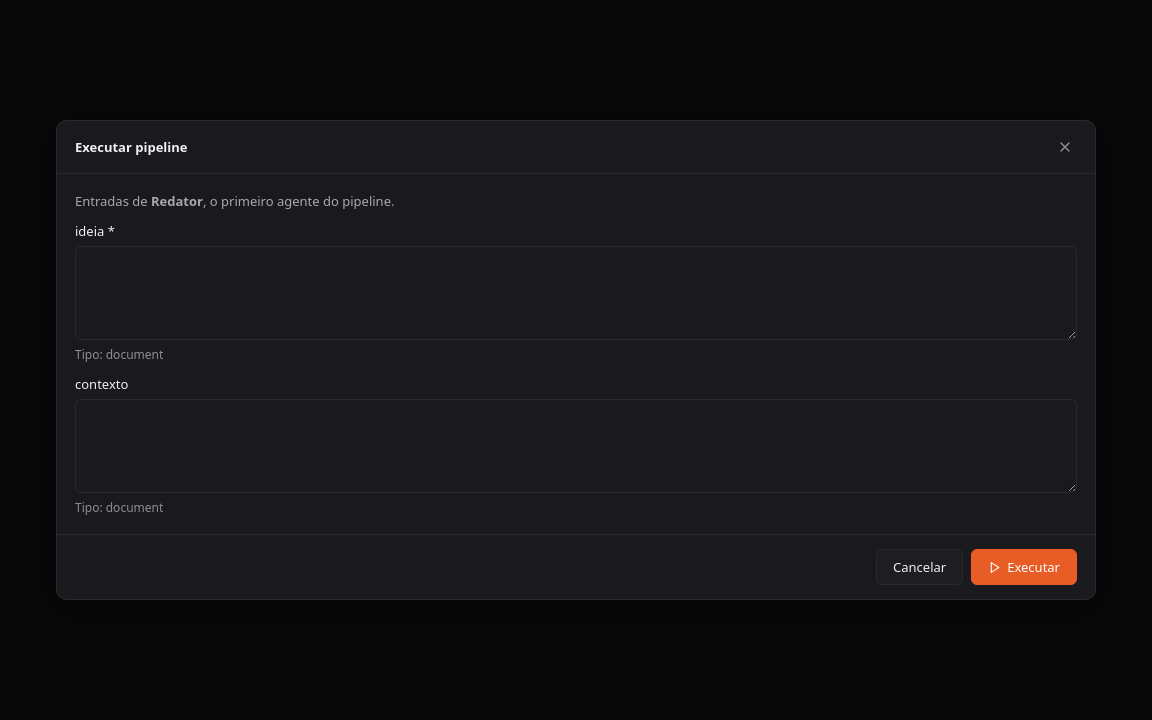
Test: RunInputsModal › blocks submit until required inputs are filled
This screenshot has width=1152, height=720.
Click the button "Executar" at (1024, 567), box [971,549,1077,585]
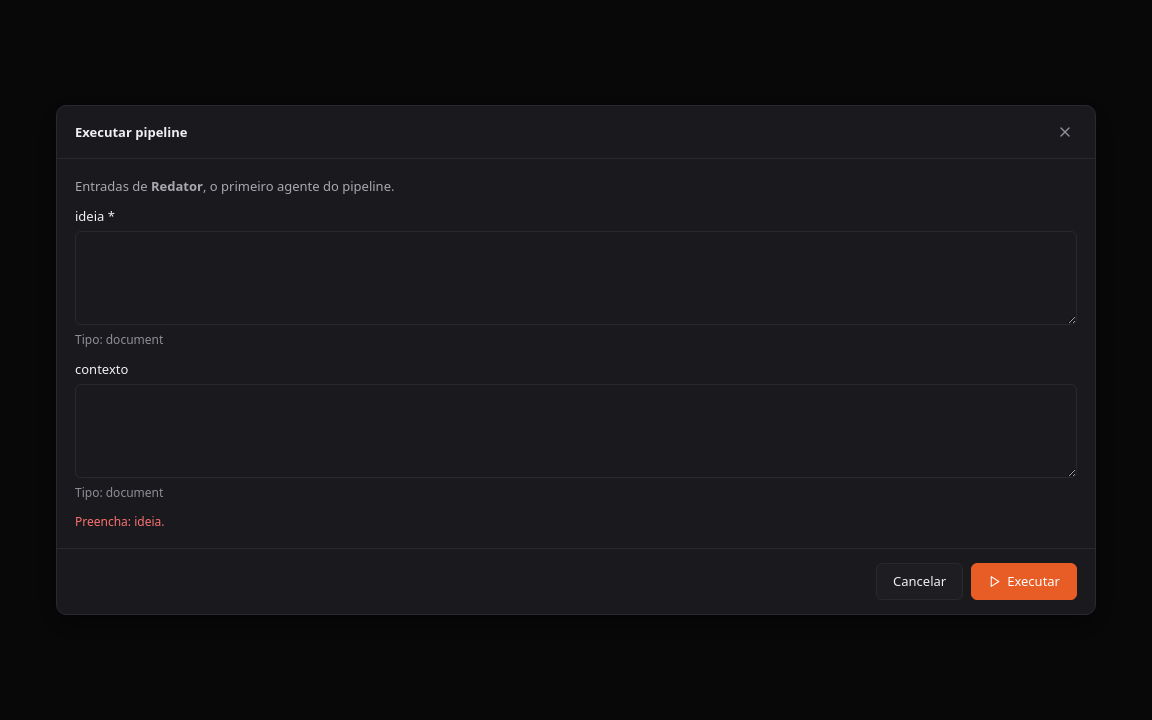
Expected: the message shows "ideia", [75,513,164,530]
